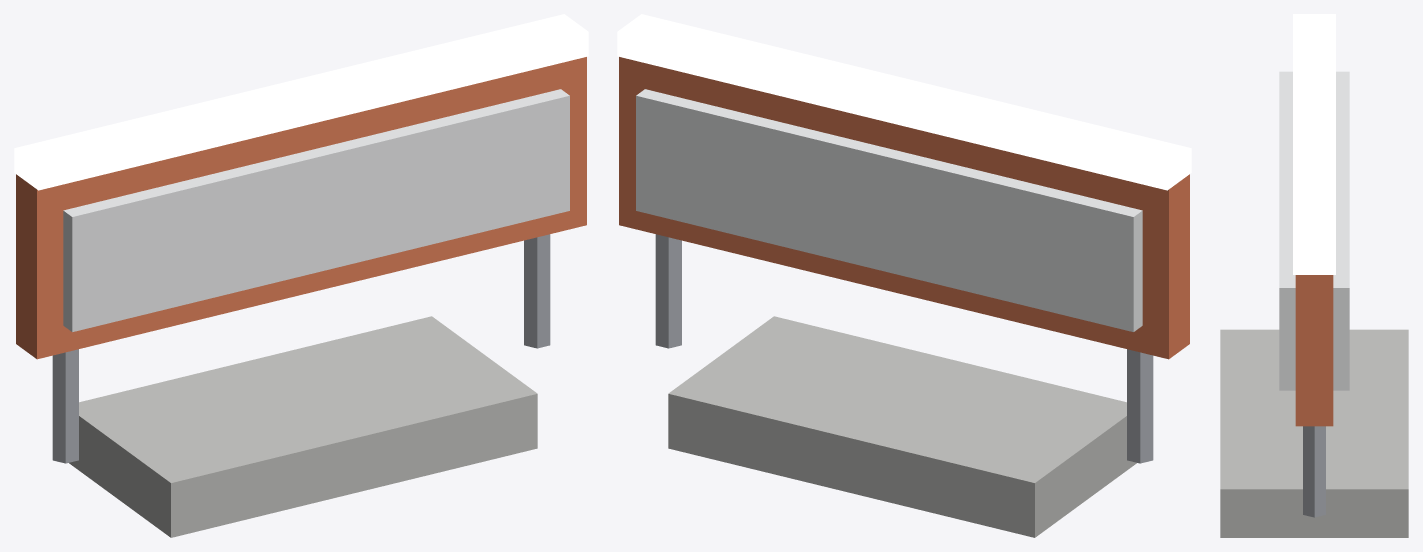
File: aircraft-fleet-and-airfield-hold-short-sign-e9ffc43b__32831.glb
The picture shows the model from 3 angles, left to right: view 1: azimuth 30°, elevation 25°; view 2: azimuth 150°, elevation 25°; view 3: azimuth 270°, elevation 25°; orthographic projection. The views are drawn at different scales.
Visible parts, largest first — view 1: hold-short-sign; view 2: hold-short-sign; view 3: hold-short-sign.
Boxes of the visible parts, x1,y1,x2,y2 form: hold-short-sign: (14,14,588,537); hold-short-sign: (617,14,1191,537); hold-short-sign: (1220,14,1408,537).
Size of the model in its own units: 2.1 by 1.33 by 0.7001.
